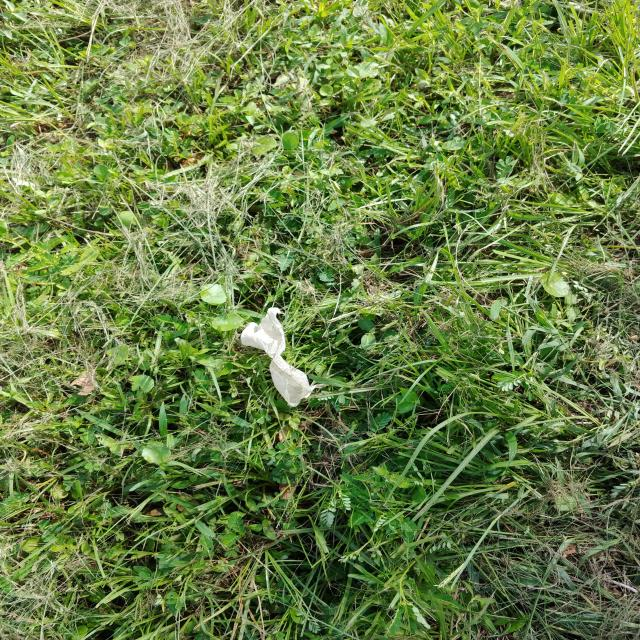litter: (411, 248, 545, 301)
